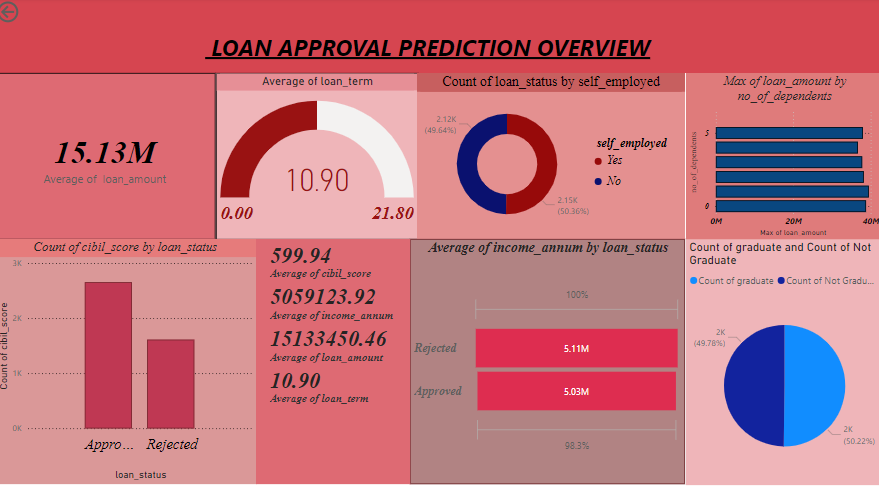

What the dashboard file says about the page in this screenshot:
{"tool":"powerbi","page":{"name":"Page 1","canvas":[1280,720],"ordinal":0},"visuals":[{"type":"textbox","box":[0,370,281,281],"z":0},{"type":"textbox","box":[291,79,281,281],"z":1000},{"type":"textbox","box":[0,0,1280,107.5],"z":2000},{"type":"card","fields":{"Values":["Avg(loan_approval_dataset. loan_amount)"]},"box":[0,107.5,319.2,240.2],"z":3000},{"type":"gauge","fields":{"Y":["Avg(loan_approval_dataset. loan_term)"]},"box":[319.2,107.5,290.6,240.2],"z":4000},{"type":"clusteredColumnChart","fields":{"Y":["CountNonNull(loan_approval_dataset. cibil_score)"],"Category":["loan_approval_dataset. loan_status"]},"box":[0,347.7,378,352.8],"z":5000},{"type":"donutChart","fields":{"Category":["loan_approval_dataset. self_employed"],"Y":["CountNonNull(loan_approval_dataset. loan_status)"]},"box":[609.8,107.5,386.4,240.2],"z":6000},{"type":"funnel","fields":{"Category":["loan_approval_dataset. loan_status"],"Y":["Avg(loan_approval_dataset. income_annum)"]},"box":[599.7,347.7,396.4,352.8],"z":7000},{"type":"multiRowCard","fields":{"Values":["Avg(loan_approval_dataset. cibil_score)","Avg(loan_approval_dataset. income_annum)","Avg(loan_approval_dataset. loan_amount)","Avg(loan_approval_dataset. loan_term)"]},"box":[378,347.7,221.7,352.8],"z":8000},{"type":"clusteredBarChart","fields":{"Category":["loan_approval_dataset. no_of_dependents"],"Y":["Max(loan_approval_dataset. loan_amount)"]},"box":[996,108,284,240],"z":9000},{"type":"actionButton","box":[0,0,100,40],"z":9002},{"type":"pieChart","fields":{"Y":["loan_approval_dataset.Count of graduate","loan_approval_dataset.Count of Not Graduate"]},"box":[996,348,284,353],"z":9003}]}

Visuals, with their boxes in screenshot pixels (x1, y1, x2, y2), scaled from the page's 1280x720 canvas onto the 879x492 screenshot:
textbox: detection(0, 253, 193, 445)
textbox: detection(200, 54, 393, 246)
textbox: detection(0, 0, 878, 73)
card - Avg(loan_approval_dataset. loan_amount): detection(0, 73, 219, 238)
gauge - Avg(loan_approval_dataset. loan_term): detection(219, 73, 419, 238)
clusteredColumnChart - CountNonNull(loan_approval_dataset. cibil_score) x loan_approval_dataset. loan_status: detection(0, 238, 260, 479)
donutChart - loan_approval_dataset. self_employed x CountNonNull(loan_approval_dataset. loan_status): detection(419, 73, 684, 238)
funnel - loan_approval_dataset. loan_status x Avg(loan_approval_dataset. income_annum): detection(412, 238, 684, 479)
multiRowCard - Avg(loan_approval_dataset. cibil_score) x Avg(loan_approval_dataset. income_annum): detection(260, 238, 412, 479)
clusteredBarChart - loan_approval_dataset. no_of_dependents x Max(loan_approval_dataset. loan_amount): detection(684, 74, 878, 238)
actionButton: detection(0, 0, 69, 27)
pieChart - loan_approval_dataset.Count of graduate x loan_approval_dataset.Count of Not Graduate: detection(684, 238, 878, 479)
